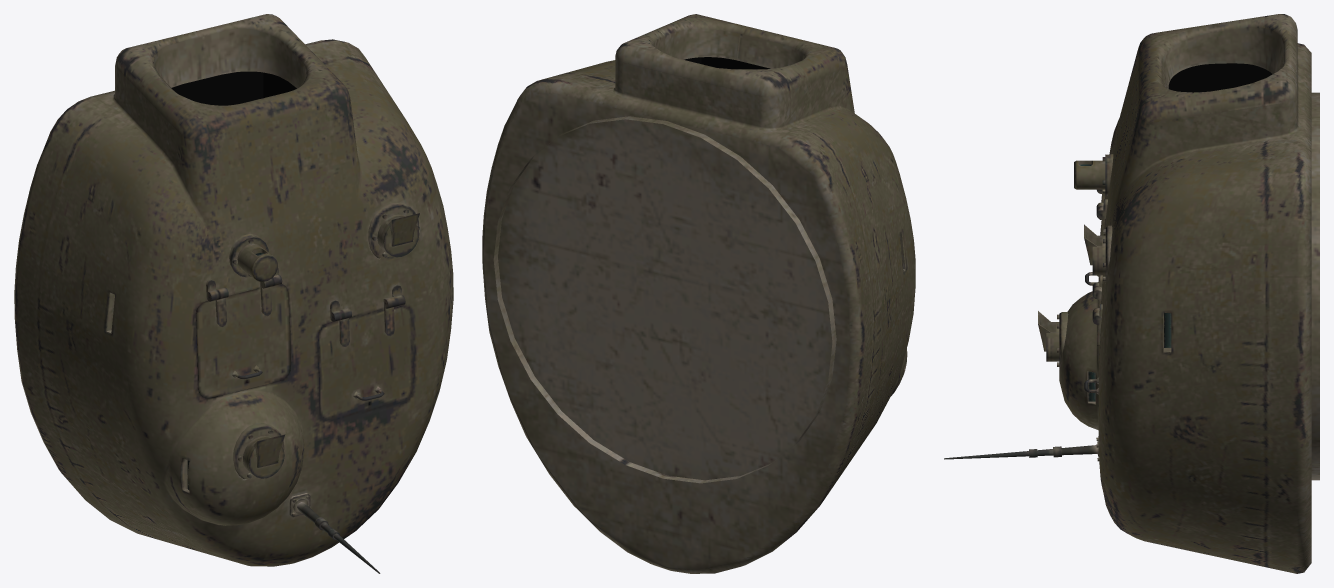
Rendered from Turret_01.glb.
The picture shows the model from 3 angles, left to right: view 1: azimuth 30°, elevation 25°; view 2: azimuth 150°, elevation 25°; view 3: azimuth 270°, elevation 25°; orthographic projection. The views are drawn at different scales.
Parts seen in each view (by area): view 1: set_0_group_0; view 2: set_0_group_0; view 3: set_0_group_0.
Part boxes in pixels (<box>): set_0_group_0: <box>14,14,453,573</box>; set_0_group_0: <box>482,14,915,573</box>; set_0_group_0: <box>944,14,1319,573</box>.
Bounding box in the file's own units: 1.79 × 2.3 × 1.55.
1 material, 1 textured.
